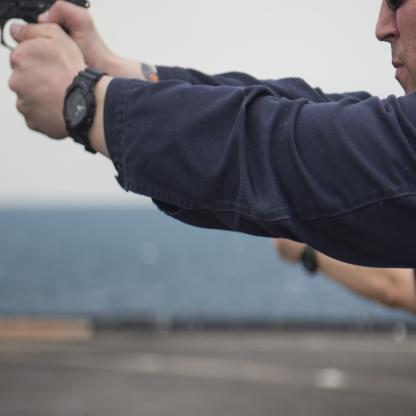gun: (0, 0, 92, 59)
